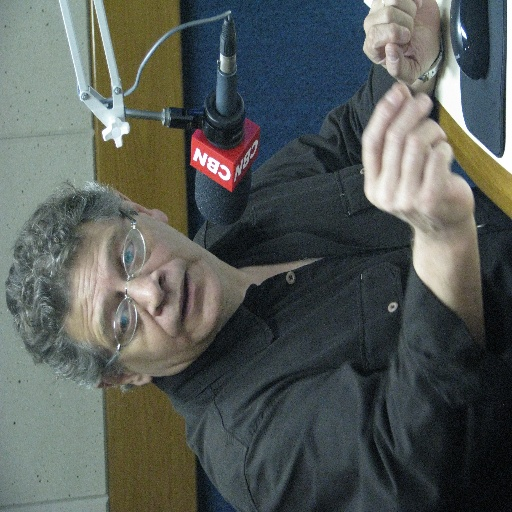hand: (355, 51, 485, 344), (360, 0, 439, 83)
